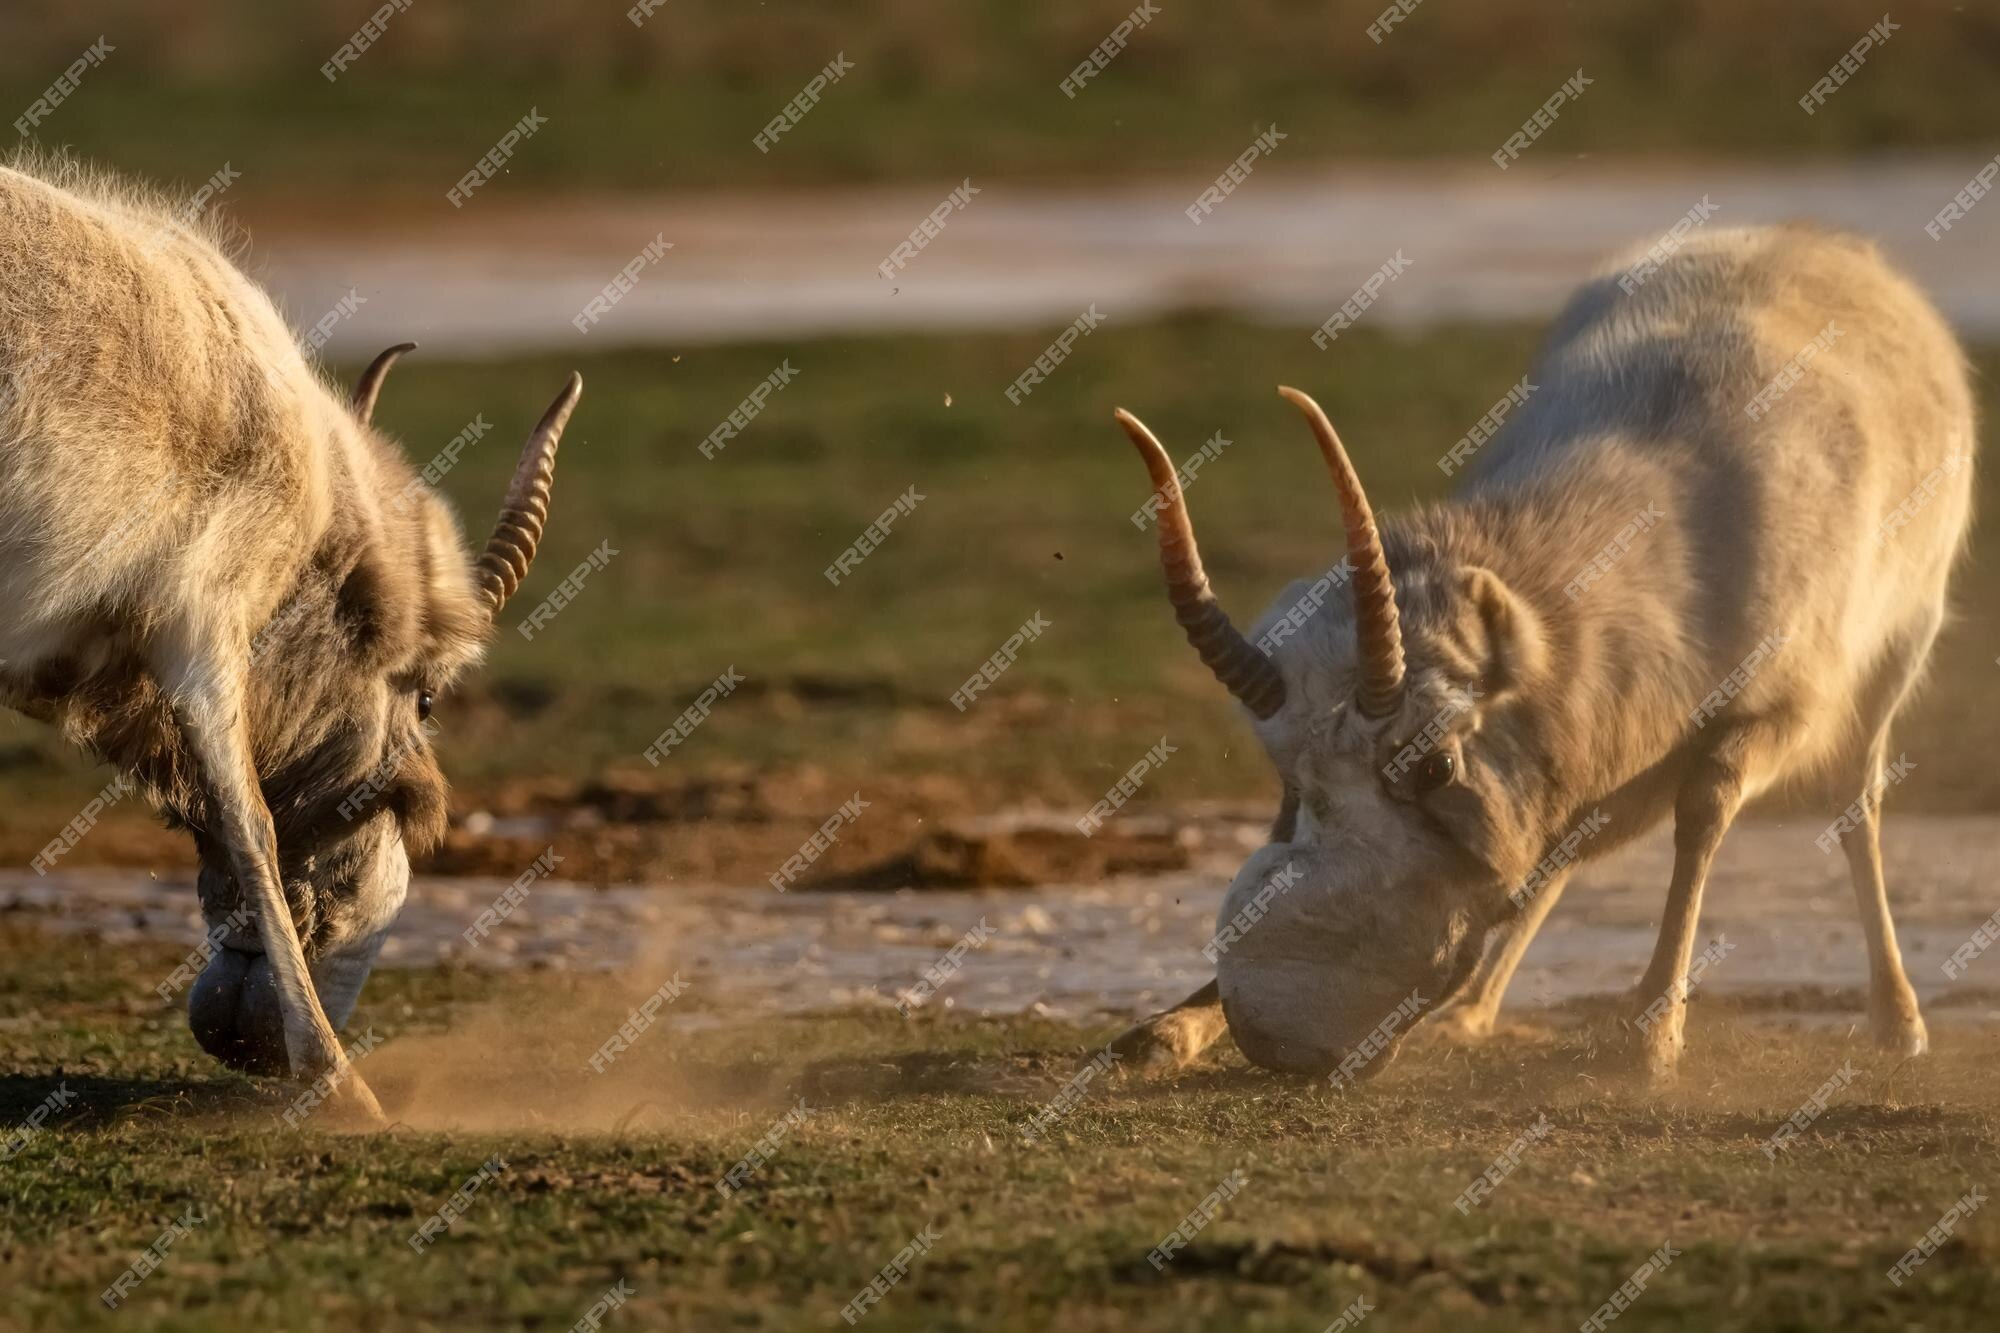saiga: (1106, 220, 1955, 1088), (3, 149, 586, 1135)
